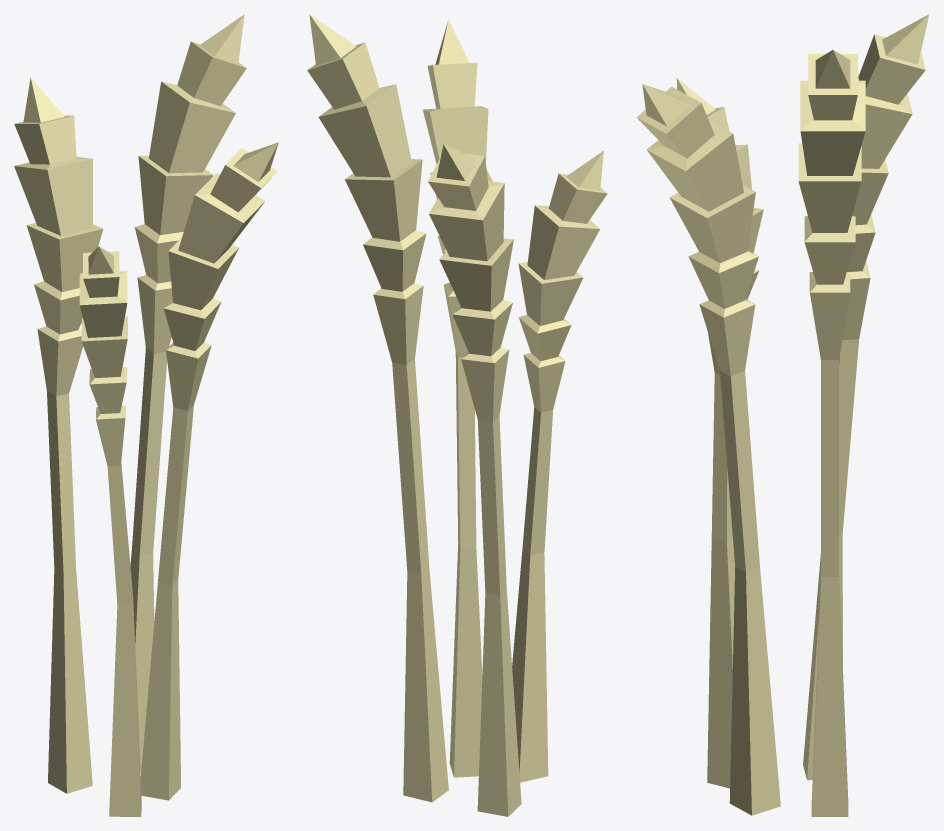
File: flower_parts.glb
The picture shows the model from 3 angles, left to right: view 1: azimuth 30°, elevation 25°; view 2: azimuth 150°, elevation 25°; view 3: azimuth 270°, elevation 25°; orthographic projection. The views are drawn at different scales.
Parts seen in each view (by area): view 1: Wheat; view 2: Wheat; view 3: Wheat.
Boxes of the visible parts, x1,y1,x2,y2 form: Wheat: [14, 14, 278, 816]; Wheat: [307, 14, 607, 816]; Wheat: [636, 14, 929, 816].
Bounding box in the file's own units: 58.43 × 180 × 58.22.
